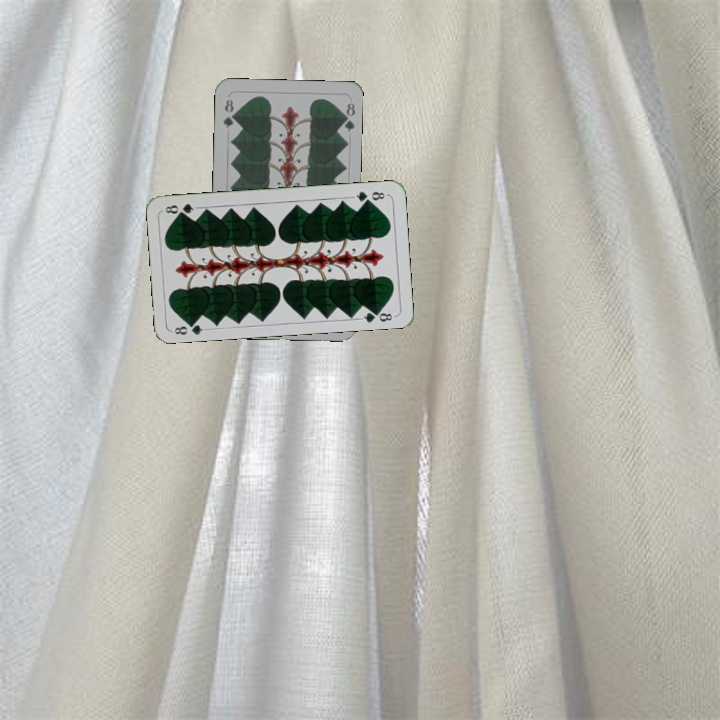G8: (170, 317, 209, 337), (349, 187, 389, 205), (219, 95, 237, 130)
